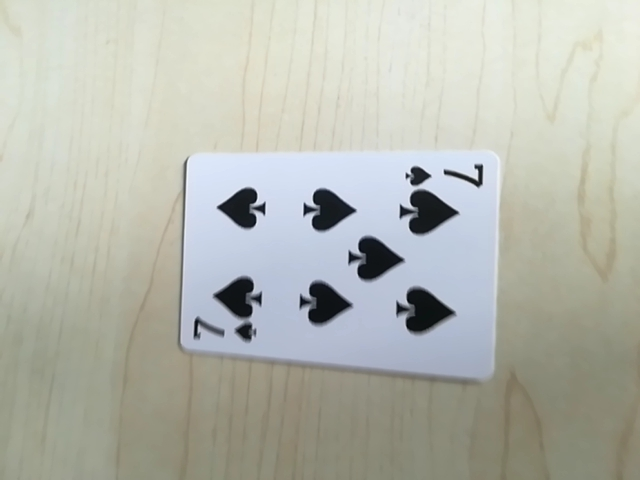ht 7: (401, 157, 491, 190), (188, 317, 263, 349)
